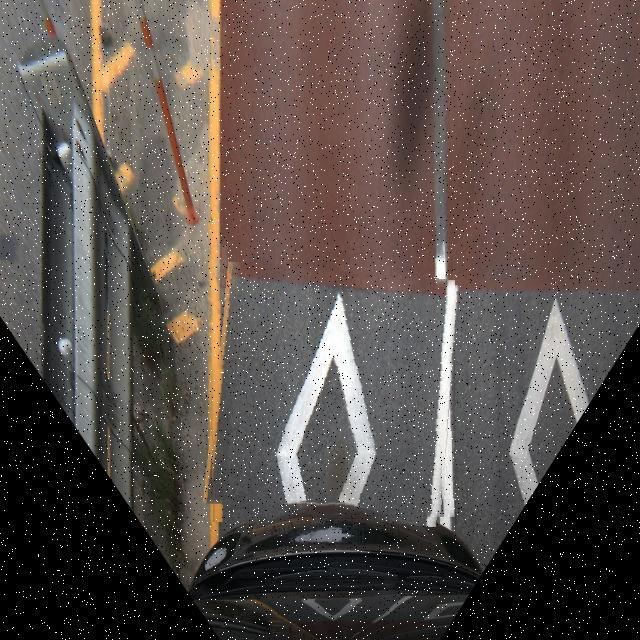diamond: (209, 267, 455, 522)
